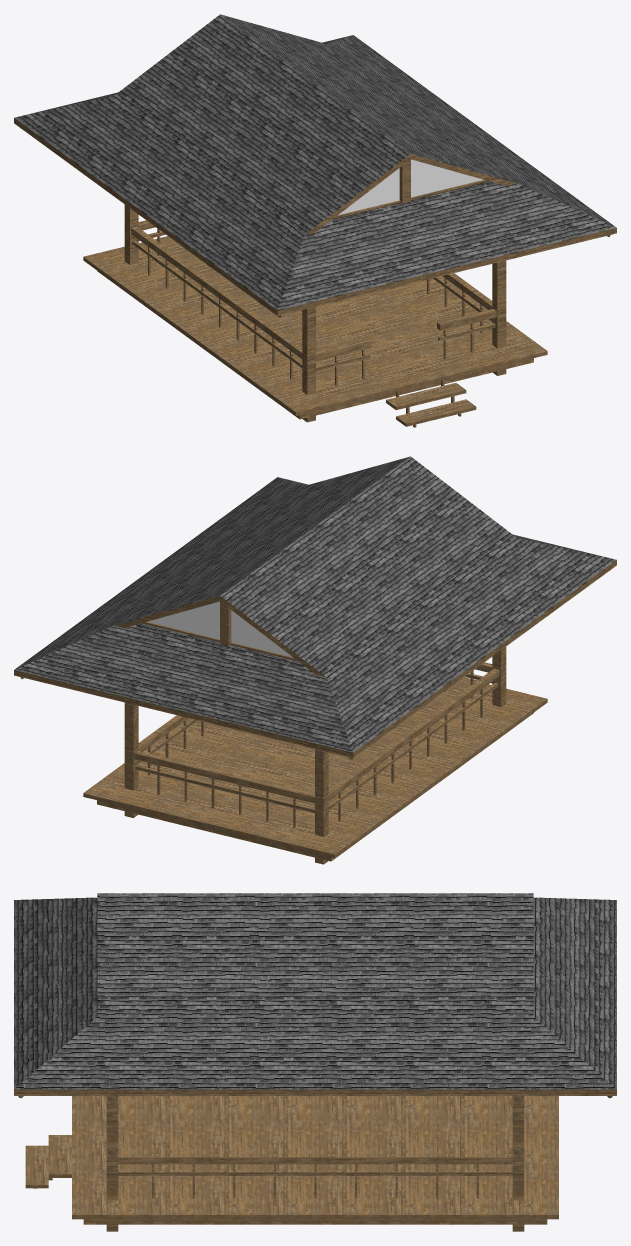
File: arbor.obj
3 views of the same model, one above another, from view 1: azimuth 30°, elevation 25°; view 2: azimuth 150°, elevation 25°; view 3: azimuth 270°, elevation 25° (orthographic). The views are drawn at different scales.
Visible parts, largest first — view 1: Mesh1 Group2 Group1 Model, Mesh3 Group4 Group1 Model, Mesh77 Group82 Group81 Group1 Model, Mesh28 Group20 Group1 Model, Mesh78 Group83 Group81 Group1 Model, Mesh109 Group114 Group1 Model, Mesh110 ___1_1 Group1 Model, Mesh111 ___1_2 Group1 Model, Mesh14 Group18 Group10 Group1 Model, Mesh15 Group19 Group10 Group1 Model, Mesh112 ___1_3 Group1 Model; view 2: Mesh1 Group2 Group1 Model, Mesh3 Group4 Group1 Model, Mesh77 Group82 Group81 Group1 Model, Mesh27 Group20 Group1 Model, Mesh78 Group83 Group81 Group1 Model, Mesh109 Group114 Group1 Model, Mesh113 ___1_4 Group1 Model, Mesh112 ___1_3 Group1 Model, Mesh111 ___1_2 Group1 Model; view 3: Mesh1 Group2 Group1 Model, Mesh3 Group4 Group1 Model, Mesh77 Group82 Group81 Group1 Model, Mesh109 Group114 Group1 Model, Mesh78 Group83 Group81 Group1 Model, Mesh110 ___1_1 Group1 Model, Mesh113 ___1_4 Group1 Model, Mesh15 Group19 Group10 Group1 Model, Mesh14 Group18 Group10 Group1 Model.
Part boxes in pixels (box(x1,y1,x2,y2)): Mesh1 Group2 Group1 Model: box(14, 14, 616, 316); Mesh3 Group4 Group1 Model: box(83, 236, 547, 415); Mesh77 Group82 Group81 Group1 Model: box(131, 220, 496, 361); Mesh28 Group20 Group1 Model: box(338, 159, 483, 215); Mesh78 Group83 Group81 Group1 Model: box(132, 231, 495, 371); Mesh109 Group114 Group1 Model: box(97, 271, 533, 419); Mesh110 ___1_1 Group1 Model: box(492, 260, 506, 375); Mesh111 ___1_2 Group1 Model: box(302, 307, 315, 422); Mesh14 Group18 Group10 Group1 Model: box(386, 383, 466, 410); Mesh15 Group19 Group10 Group1 Model: box(396, 399, 476, 426); Mesh112 ___1_3 Group1 Model: box(124, 204, 138, 264); Mesh1 Group2 Group1 Model: box(14, 456, 616, 758); Mesh3 Group4 Group1 Model: box(83, 678, 547, 858); Mesh77 Group82 Group81 Group1 Model: box(134, 662, 499, 803); Mesh27 Group20 Group1 Model: box(147, 601, 292, 657); Mesh78 Group83 Group81 Group1 Model: box(135, 673, 498, 813); Mesh109 Group114 Group1 Model: box(97, 713, 533, 861); Mesh113 ___1_4 Group1 Model: box(124, 702, 138, 817); Mesh112 ___1_3 Group1 Model: box(315, 749, 328, 864); Mesh111 ___1_2 Group1 Model: box(492, 647, 506, 706); Mesh1 Group2 Group1 Model: box(14, 893, 616, 1095); Mesh3 Group4 Group1 Model: box(72, 1096, 558, 1219); Mesh77 Group82 Group81 Group1 Model: box(118, 1154, 512, 1164); Mesh109 Group114 Group1 Model: box(83, 1219, 547, 1224); Mesh78 Group83 Group81 Group1 Model: box(118, 1170, 512, 1175); Mesh110 ___1_1 Group1 Model: box(106, 1096, 118, 1231); Mesh113 ___1_4 Group1 Model: box(512, 1096, 524, 1231); Mesh15 Group19 Group10 Group1 Model: box(25, 1145, 48, 1188); Mesh14 Group18 Group10 Group1 Model: box(48, 1135, 71, 1177).
Size of the model in its own units: 5800 by 4040 by 7800.
Materials: 4 (2 with a texture image).
